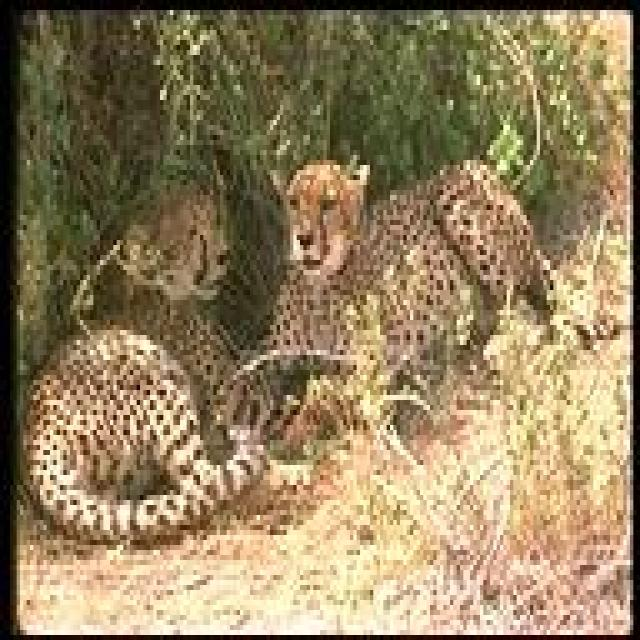Leopard: (22, 188, 257, 542), (274, 150, 539, 396)
